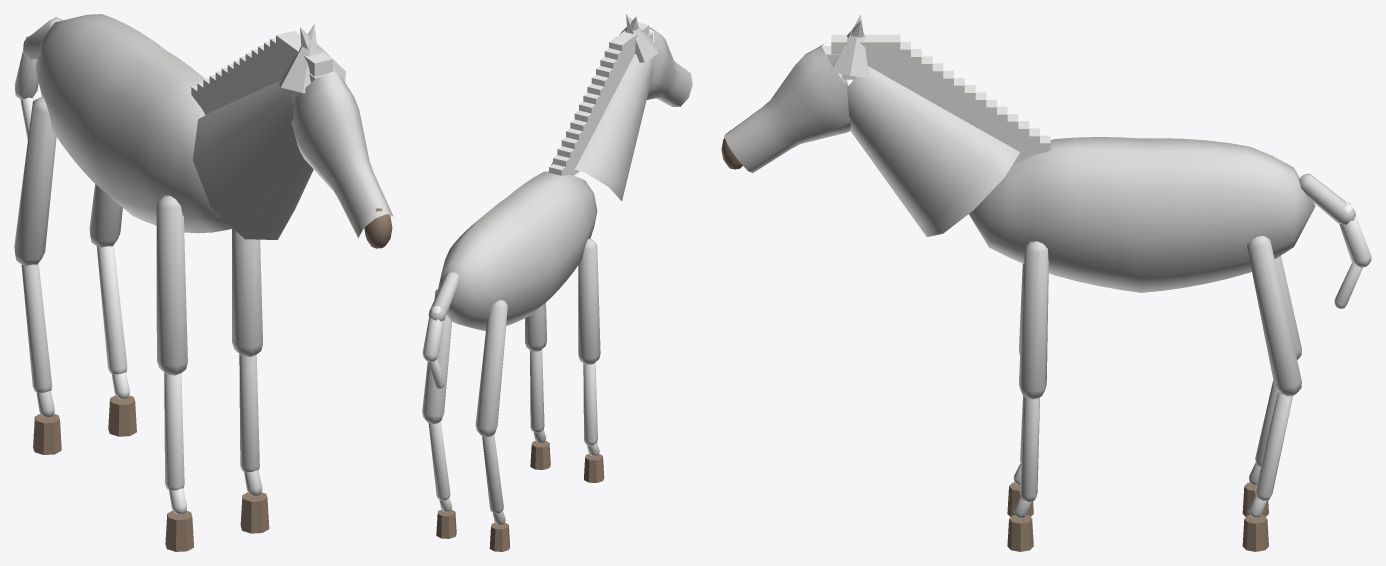
The model's file is foal-standing-grey.glb.
The picture shows the model from 3 angles, left to right: view 1: azimuth 30°, elevation 25°; view 2: azimuth 150°, elevation 25°; view 3: azimuth 270°, elevation 25°; orthographic projection. The views are drawn at different scales.
Visible parts, largest first — view 1: foal-standing-grey; view 2: foal-standing-grey; view 3: foal-standing-grey.
Part boxes in pixels (left/top/right/bottom): foal-standing-grey: left=14, top=14, right=393, bottom=551; foal-standing-grey: left=422, top=14, right=692, bottom=551; foal-standing-grey: left=721, top=14, right=1371, bottom=551.
Size of the model in its own units: 0.2777 by 1.4 by 1.6.
